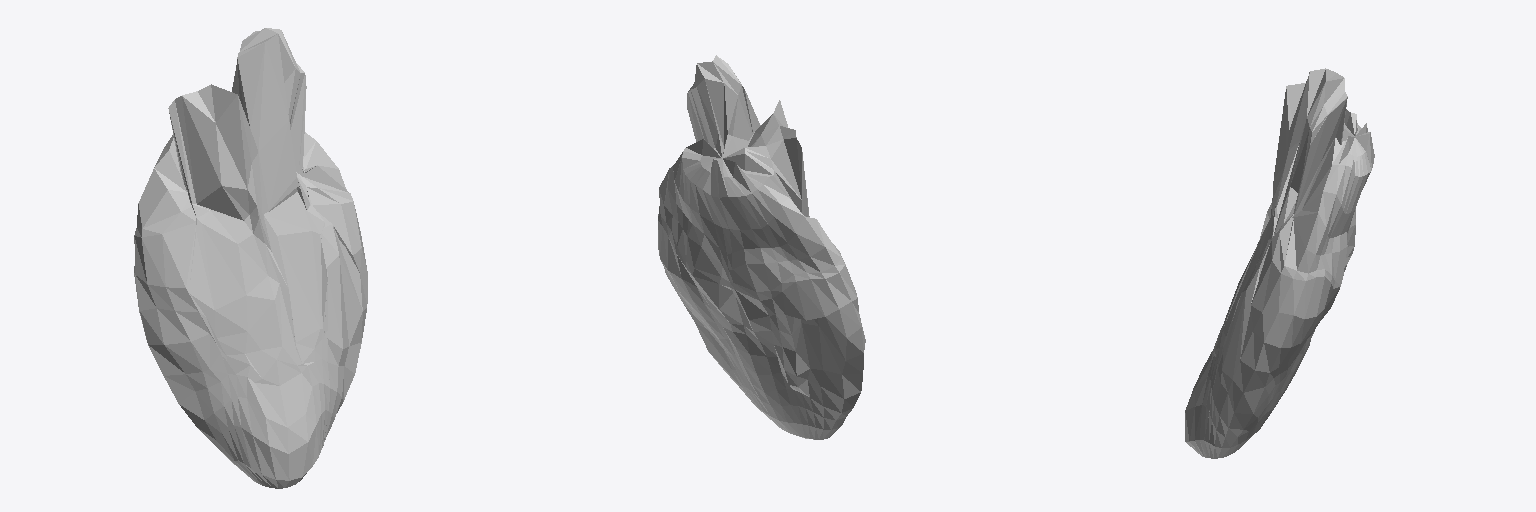
The model's file is corazon.obj.
3 views of the same model, side by side, from view 1: azimuth 30°, elevation 25°; view 2: azimuth 150°, elevation 25°; view 3: azimuth 270°, elevation 25° (orthographic).
Visible parts, largest first — view 1: Sphere.001; view 2: Sphere.001; view 3: Sphere.001.
Part boxes in pixels (left/top/right/bottom): Sphere.001: left=134, top=28, right=367, bottom=488; Sphere.001: left=658, top=55, right=865, bottom=439; Sphere.001: left=1185, top=68, right=1374, bottom=458.
Bounding box in the file's own units: 5.58 × 10.35 × 4.37.